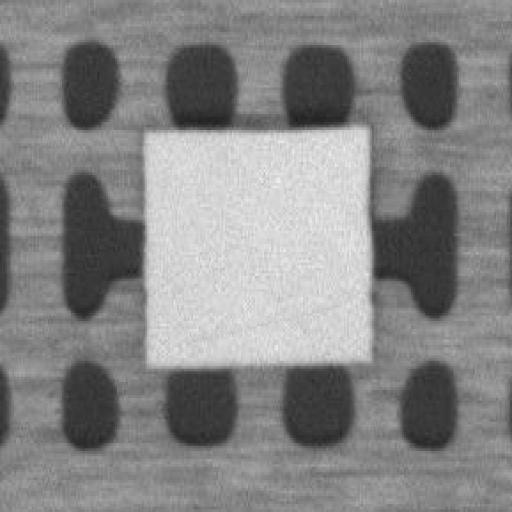DIE_CRACK: (273, 202, 504, 227)
